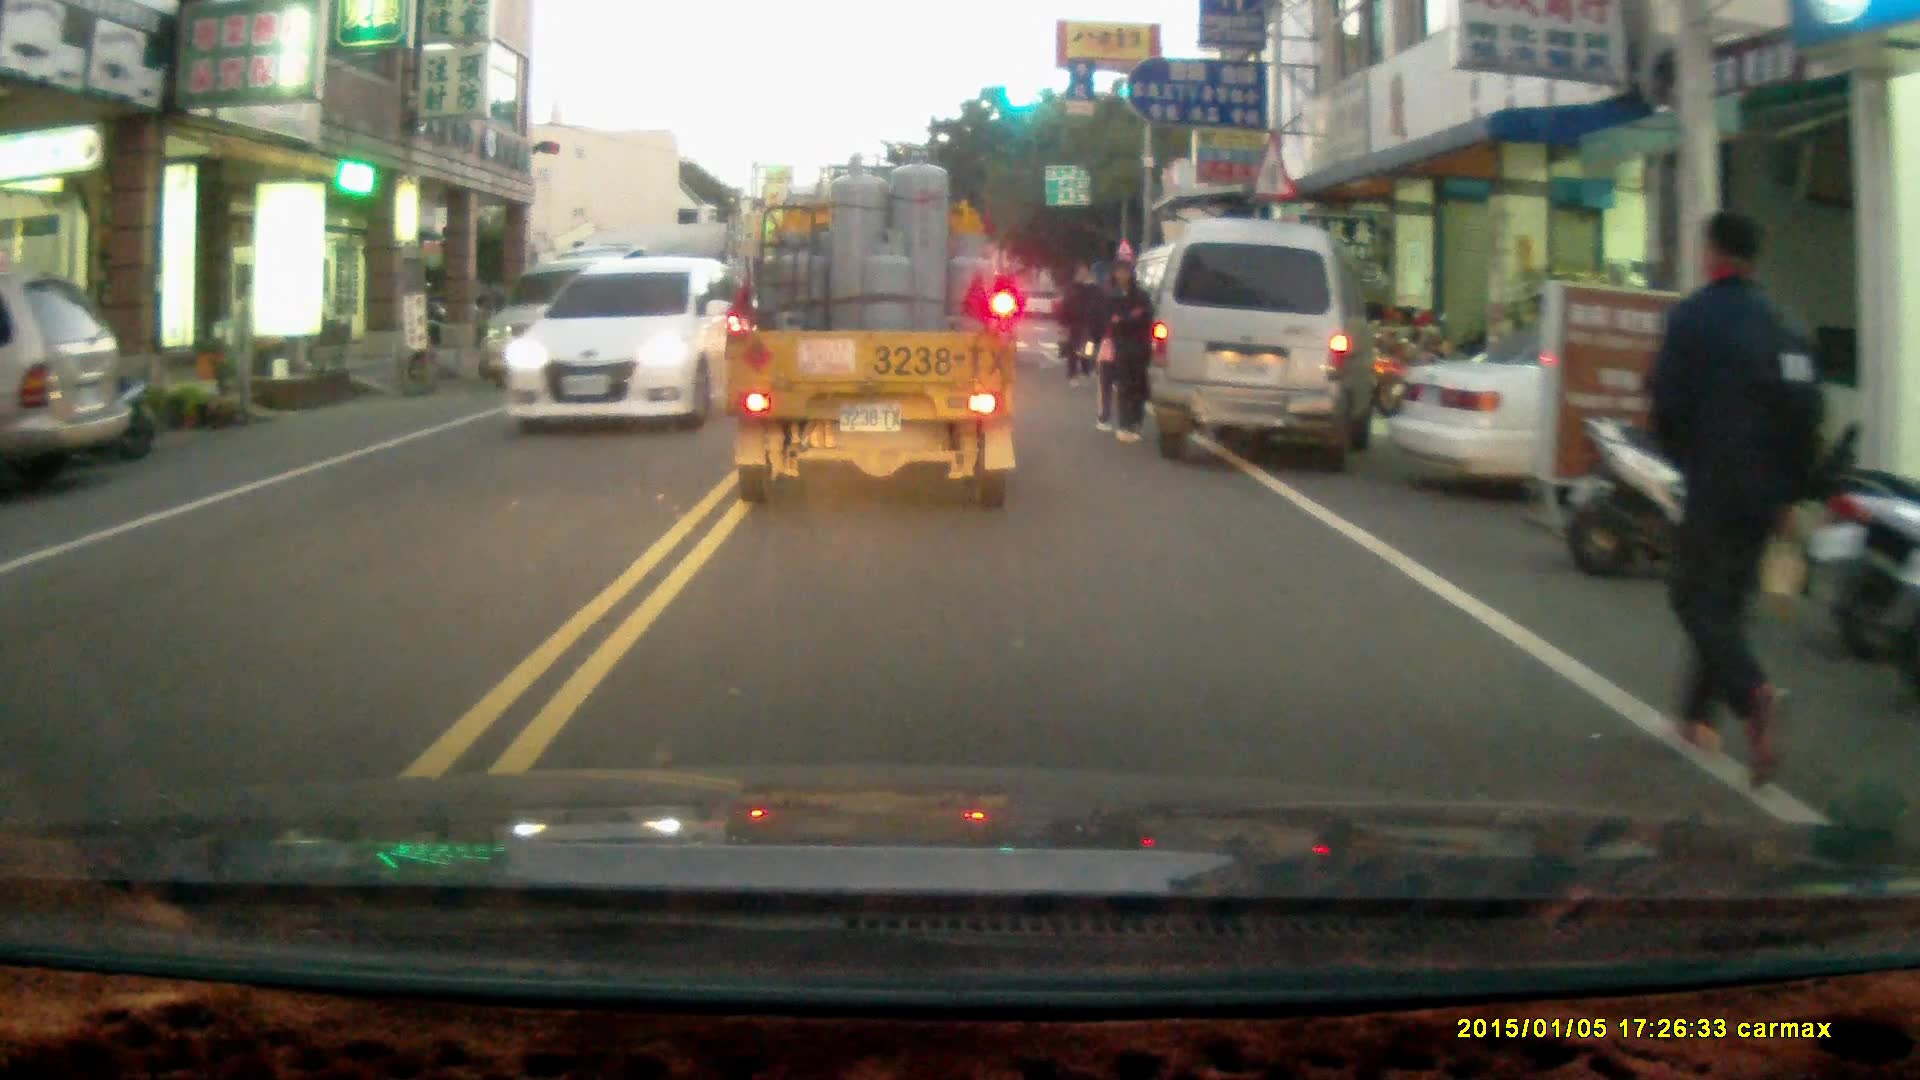pedestrian: (1642, 207, 1829, 793), (1100, 255, 1152, 440), (1057, 256, 1105, 384)
vehicle: (723, 160, 1020, 505), (1384, 310, 1866, 515), (1148, 210, 1382, 464), (506, 251, 761, 423), (1, 269, 134, 477)
